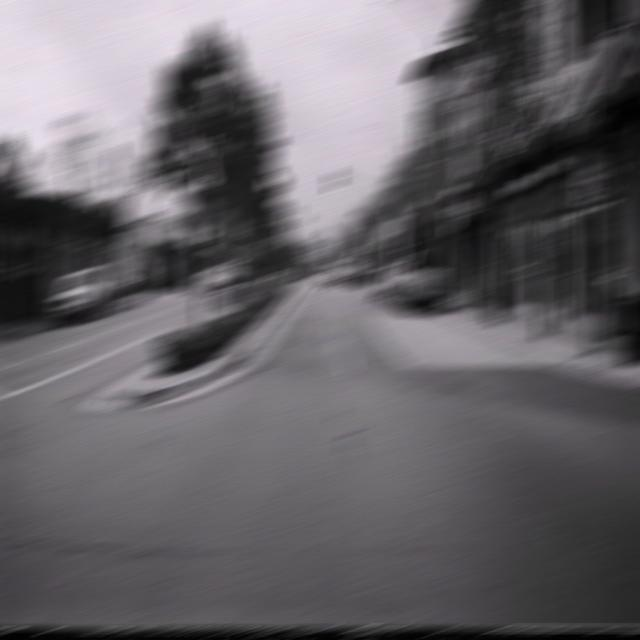speedLimit35: (576, 153, 607, 203)
